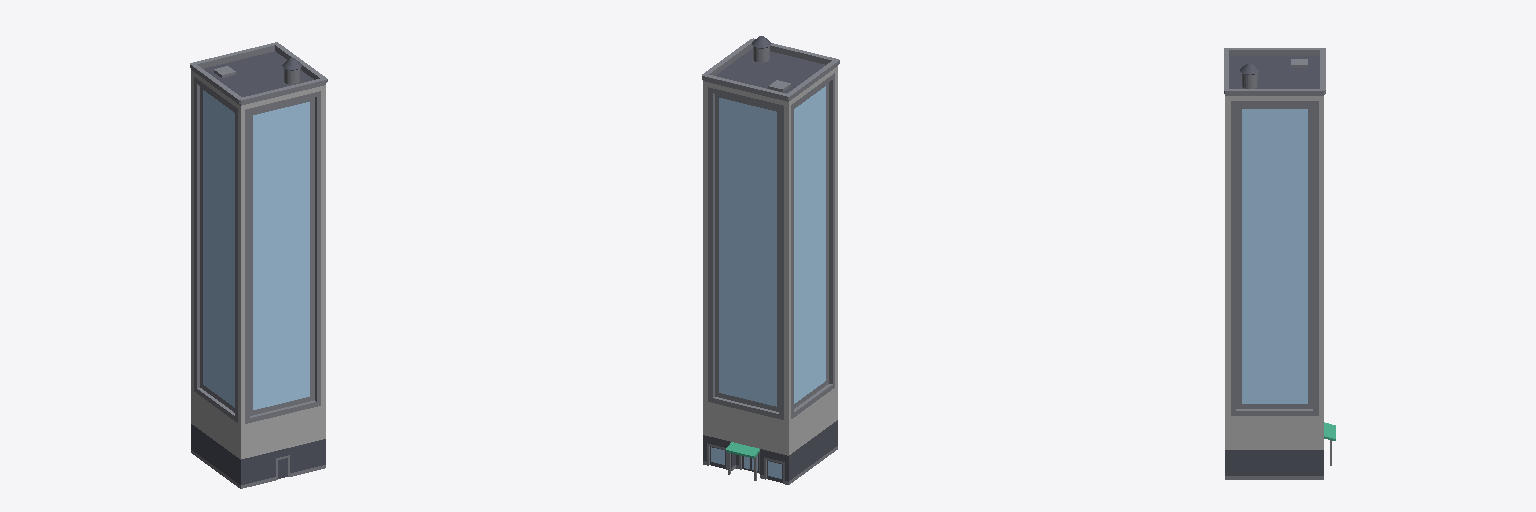
The model's file is city_skyscraper_d.obj.
The picture shows the model from 3 angles: view 1: azimuth 30°, elevation 25°; view 2: azimuth 150°, elevation 25°; view 3: azimuth 270°, elevation 25°; orthographic projection.
Visible parts, largest first — view 1: mergedBlocks; view 2: mergedBlocks; view 3: mergedBlocks.
Part boxes in pixels (x1,y1,x2,y2): mergedBlocks: (190,42,327,488); mergedBlocks: (702,36,839,484); mergedBlocks: (1224,48,1335,479).
Bounding box in the file's own units: 1 × 4.4 × 1.11.